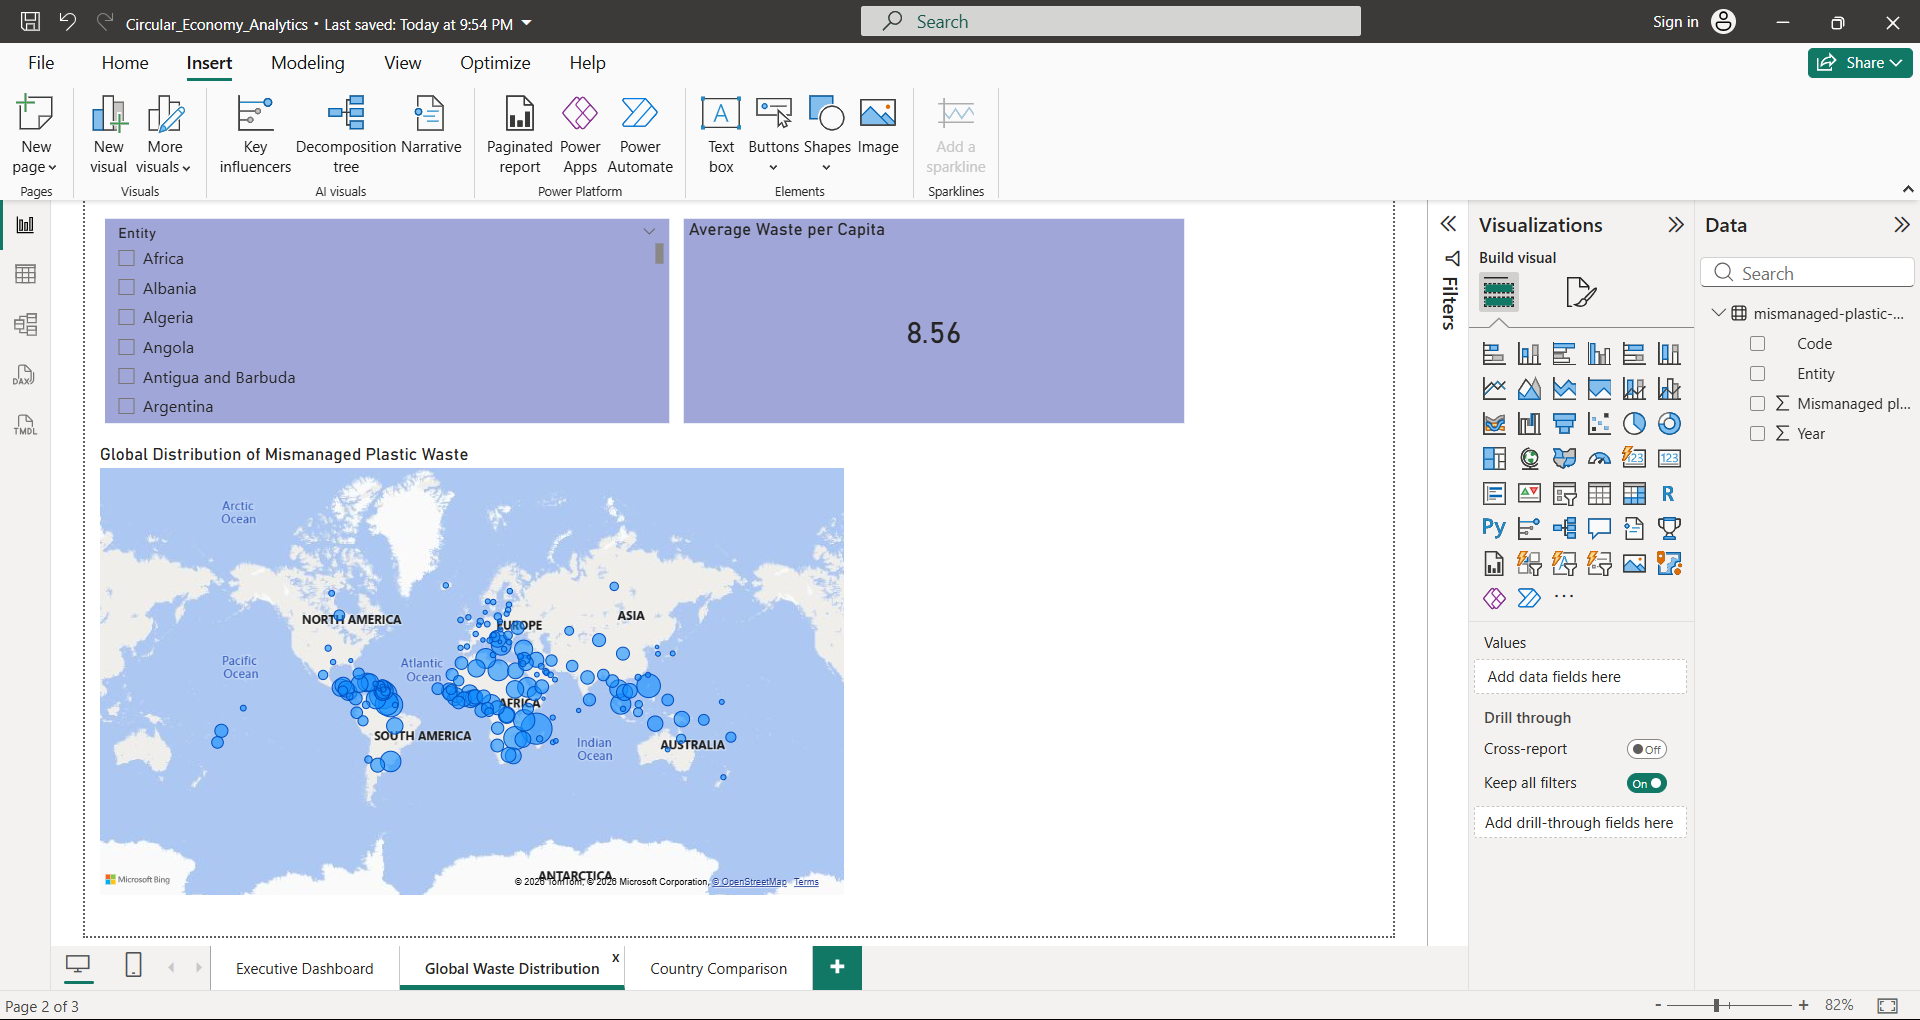

The dashboard page shown, as its layout file describes it:
{"tool":"powerbi","page":{"name":"Global Waste Distribution","canvas":[1280,720],"ordinal":1},"visuals":[{"type":"map","title":"Global Distribution of Mismanaged Plastic Waste","fields":{"Category":["mismanaged-plastic-waste-per-capita.Entity"],"Size":["Sum(mismanaged-plastic-waste-per-capita.Mismanaged plastic waste per capita)"]},"box":[9.6,238.8,738.3,446],"z":0},{"type":"slicer","fields":{"Values":["mismanaged-plastic-waste-per-capita.Entity"]},"box":[19.2,17.8,551.6,200.3],"z":1},{"type":"card","title":"Average Waste per Capita","fields":{"Values":["Avg(mismanaged-plastic-waste-per-capita.Mismanaged plastic waste per capita)"]},"box":[585.9,17.8,489.9,200.3],"z":2}]}

Visuals, with their boxes on the page's 1280x720 design canvas (x1, y1, x2, y2). These are canvas units, not pixel positions in the 1920x1020 screenshot, which may show the page scaled, cropped or inside an application window:
"Global Distribution of Mismanaged Plastic Waste" map: 10, 239, 748, 685
slicer - mismanaged-plastic-waste-per-capita.Entity: 19, 18, 571, 218
"Average Waste per Capita" card: 586, 18, 1076, 218
